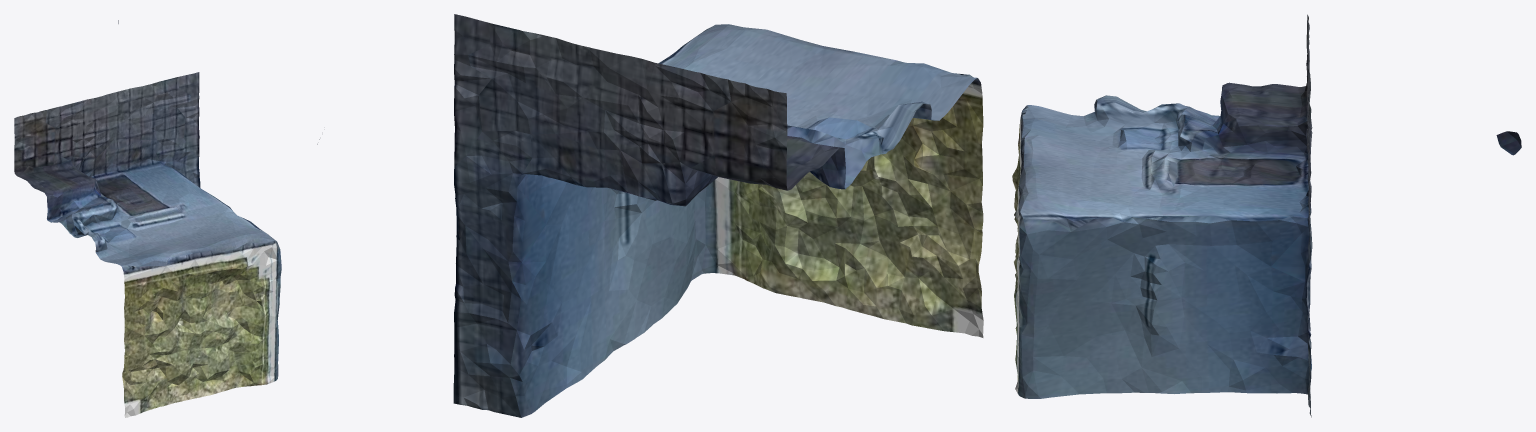
File: tile_5_18_18_tex.obj
3 renders of one model, left to right at view 1: azimuth 30°, elevation 25°; view 2: azimuth 150°, elevation 25°; view 3: azimuth 270°, elevation 25°, orthographic. The views are drawn at different scales.
Visible parts, largest first — view 1: obj_0; view 2: obj_0; view 3: obj_0.
Part boxes in pixels (x1=…): obj_0: x1=14, y1=20, x2=281, y2=417; obj_0: x1=317, y1=14, x2=983, y2=417; obj_0: x1=1012, y1=14, x2=1521, y2=417.
Size of the model in its own units: 5.01 by 5.64 by 9.11.
1 material, 1 textured.
